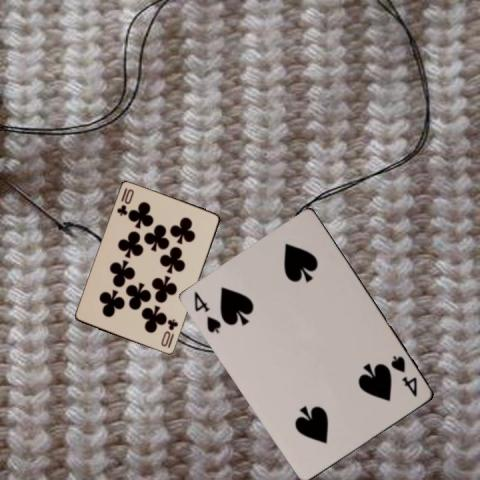10c: (158, 316, 179, 349), (114, 186, 135, 218)
4s: (192, 288, 224, 335), (388, 352, 419, 399)
